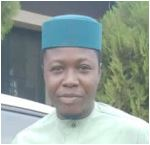without_facemask: (49, 78, 101, 112)
